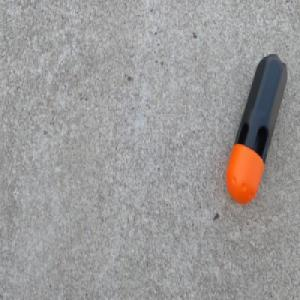PlasticPart: (224, 51, 288, 207)
